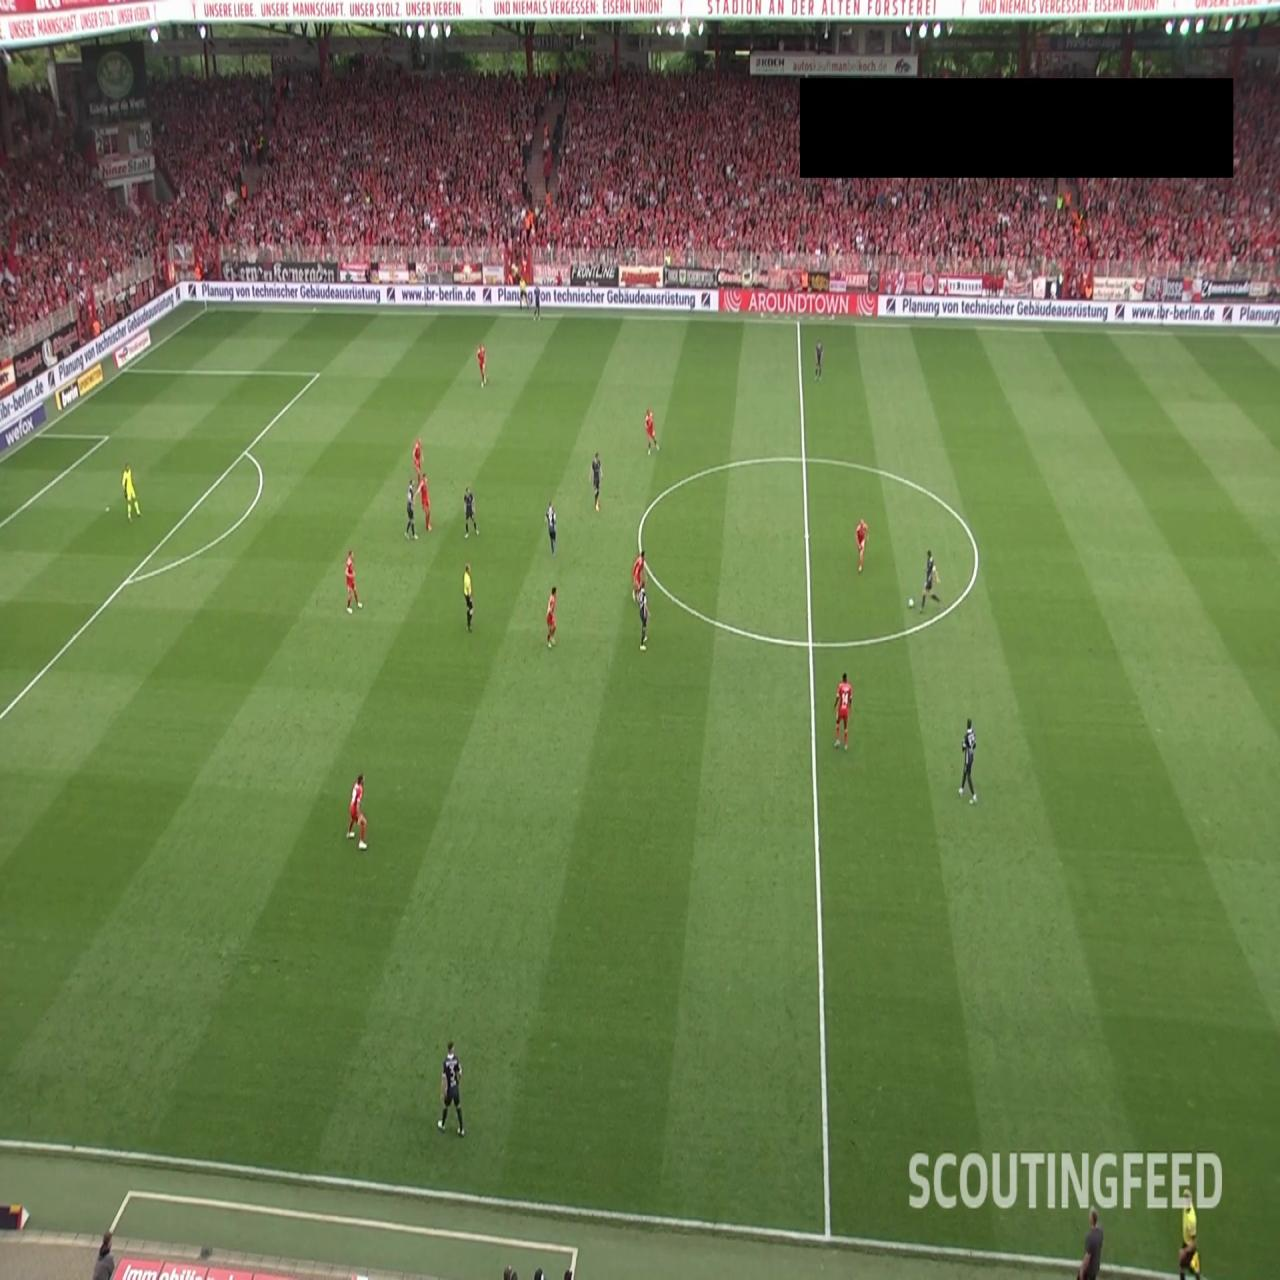ball: (907, 595, 915, 610)
goalkeeper: (121, 462, 142, 523)
player: (437, 1040, 465, 1136), (958, 717, 978, 804), (347, 773, 368, 851), (832, 671, 852, 750), (920, 548, 941, 612), (345, 548, 363, 612), (631, 547, 648, 605), (588, 452, 604, 513), (638, 581, 651, 654), (543, 500, 558, 562), (417, 472, 432, 532), (405, 478, 418, 542), (464, 486, 479, 539), (855, 518, 869, 572), (412, 436, 425, 494), (546, 587, 557, 648), (645, 409, 659, 455), (476, 343, 488, 388), (532, 283, 540, 324), (815, 339, 823, 379)
referee: (1175, 1185, 1201, 1280), (463, 562, 474, 632), (518, 275, 530, 311)
